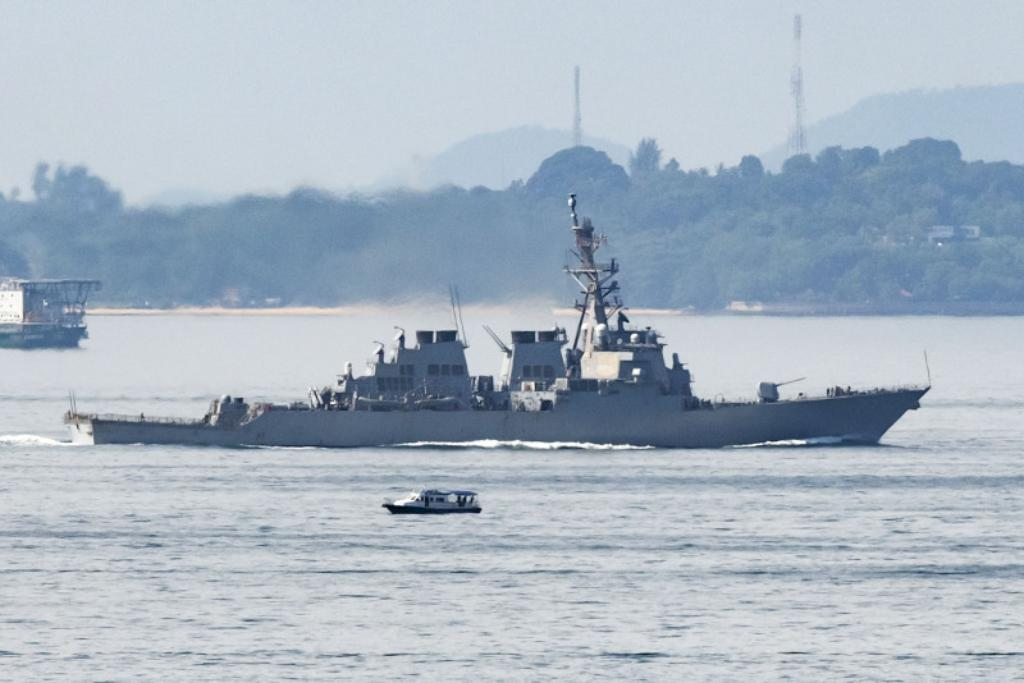PassengerShip: (0, 264, 108, 350), (381, 480, 483, 518)
